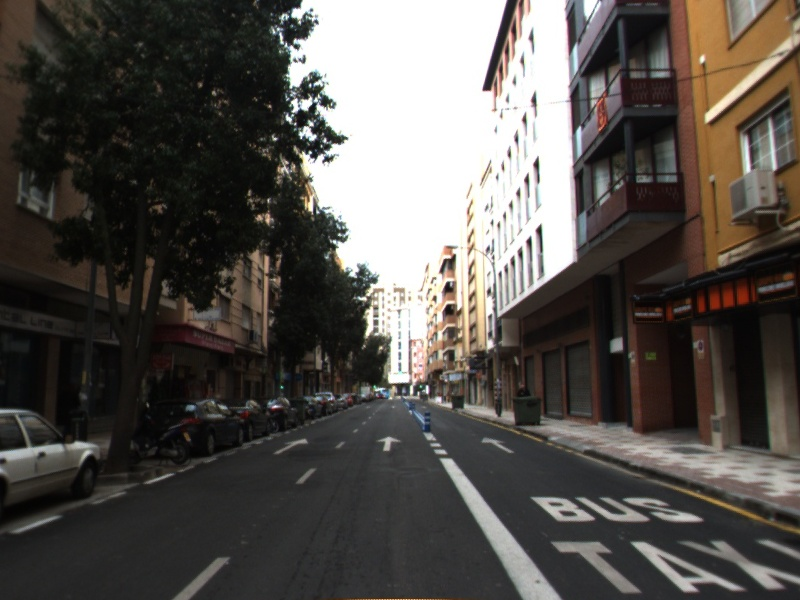STRAIGHT: (271, 436, 311, 457), (479, 434, 517, 455), (374, 434, 404, 453)
